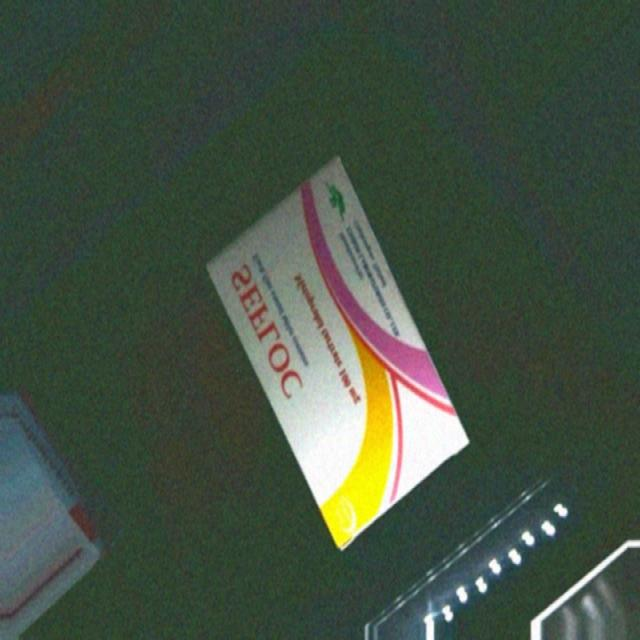medicine_name_detection: (204, 159, 468, 545)
